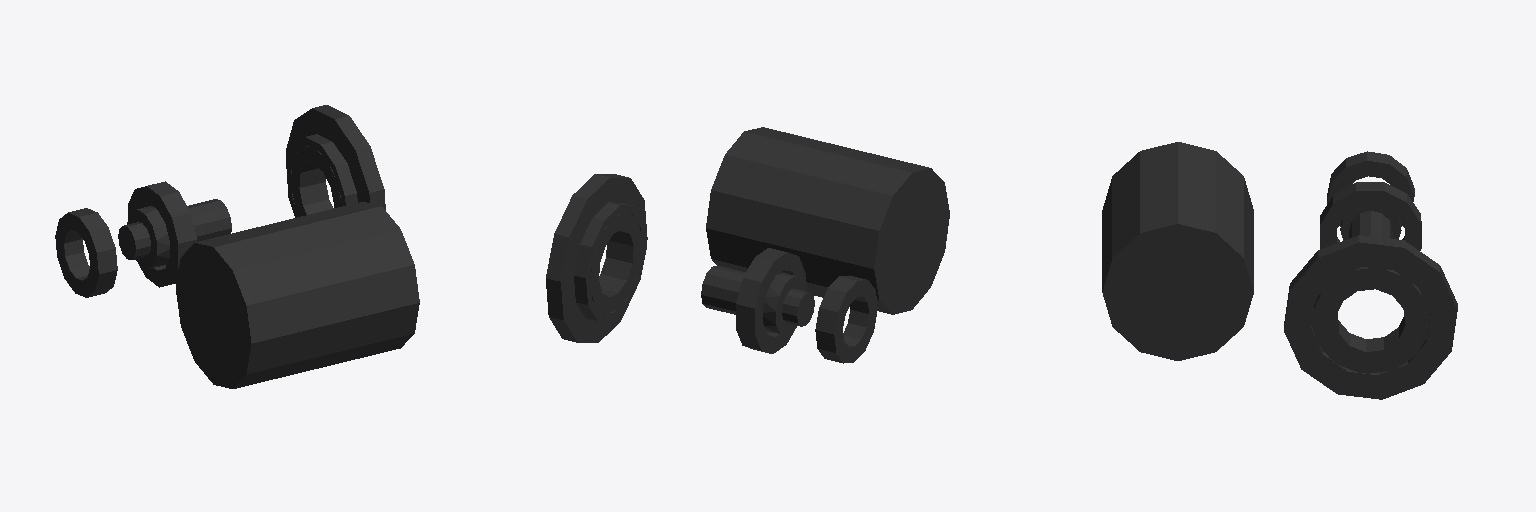
Rendered from Elbow_Bracket_01_1_mesh_2.obj.
3 views of the same model, side by side, from view 1: azimuth 30°, elevation 25°; view 2: azimuth 150°, elevation 25°; view 3: azimuth 270°, elevation 25° (orthographic).
Bounding box in the file's own units: 0.0352 × 0.0198 × 0.0406.